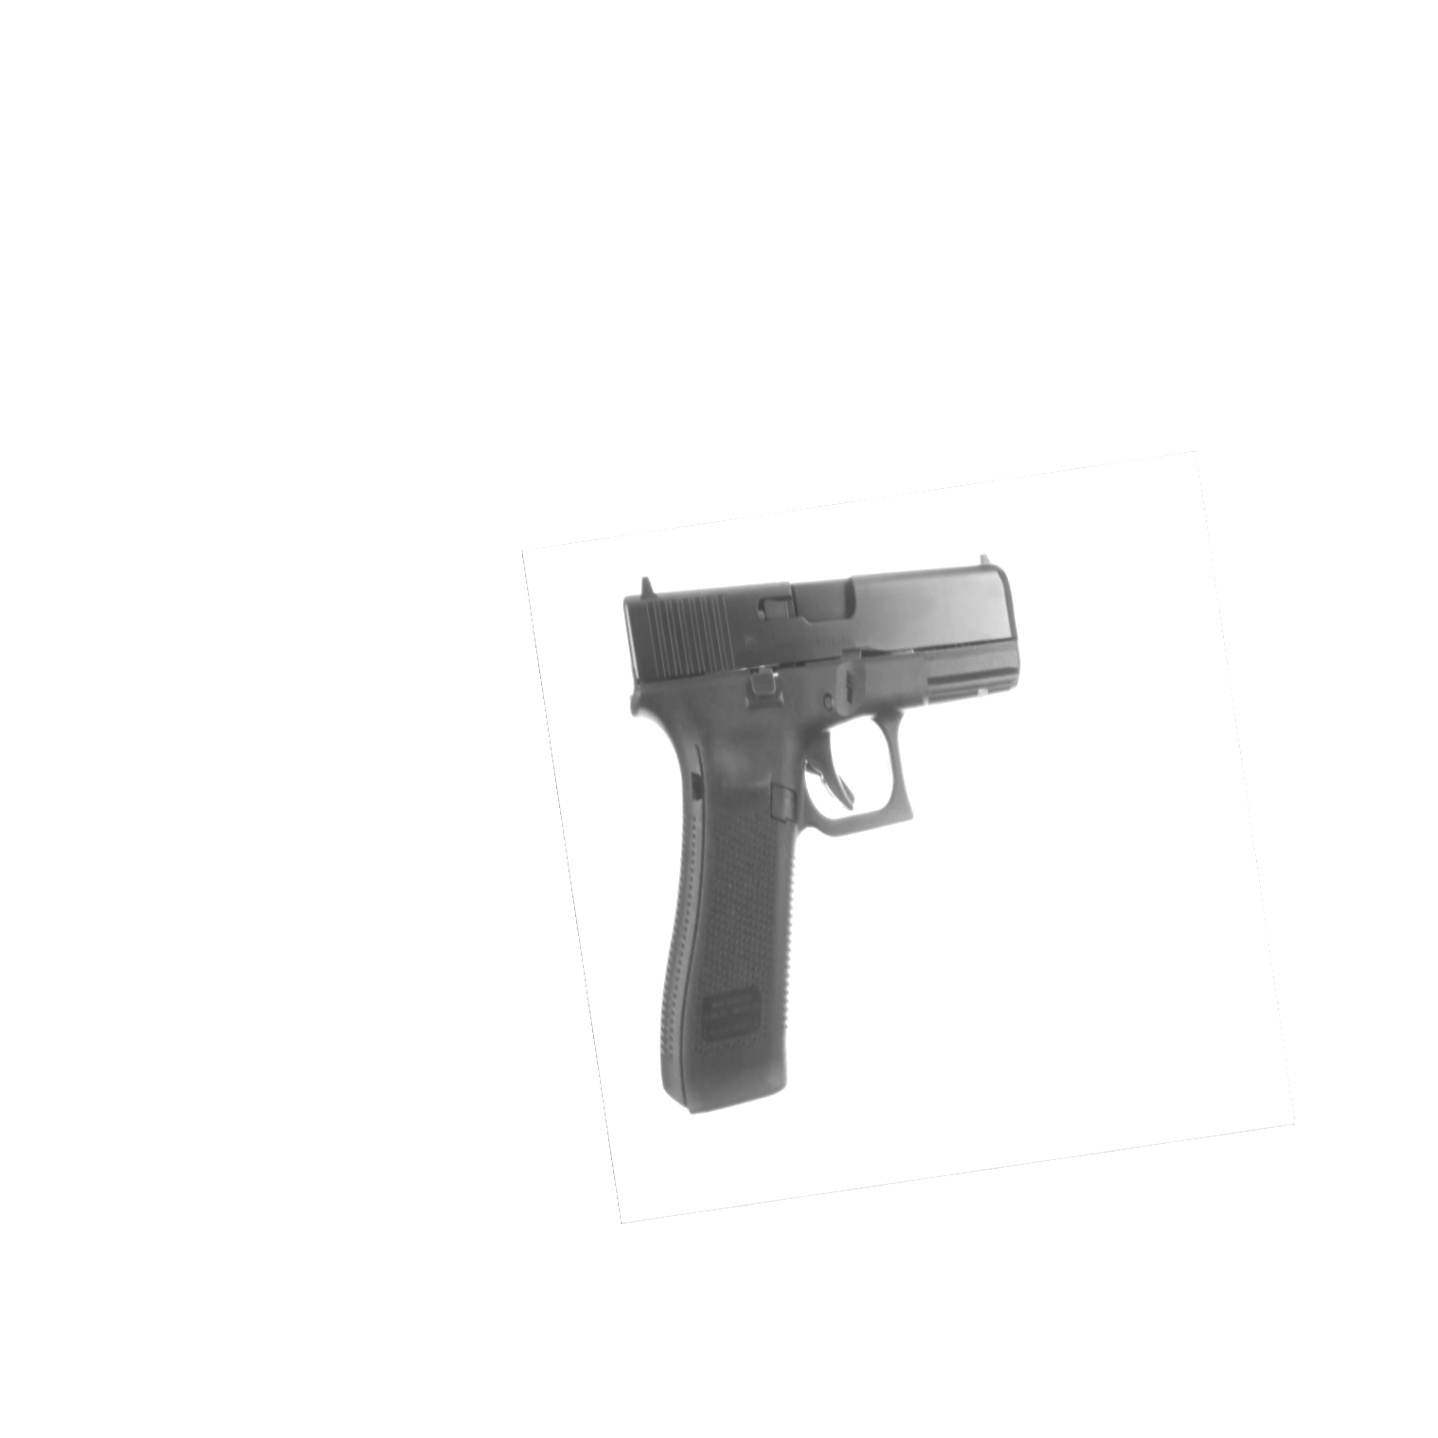gun: (622, 553, 1022, 1114)
